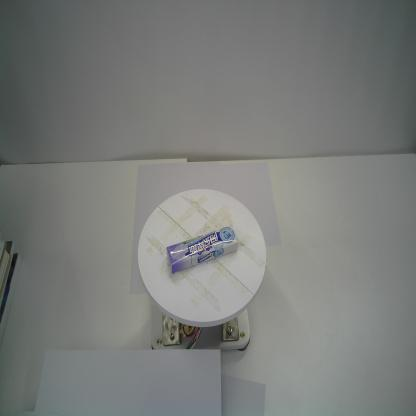Candy: (166, 225, 239, 274)
